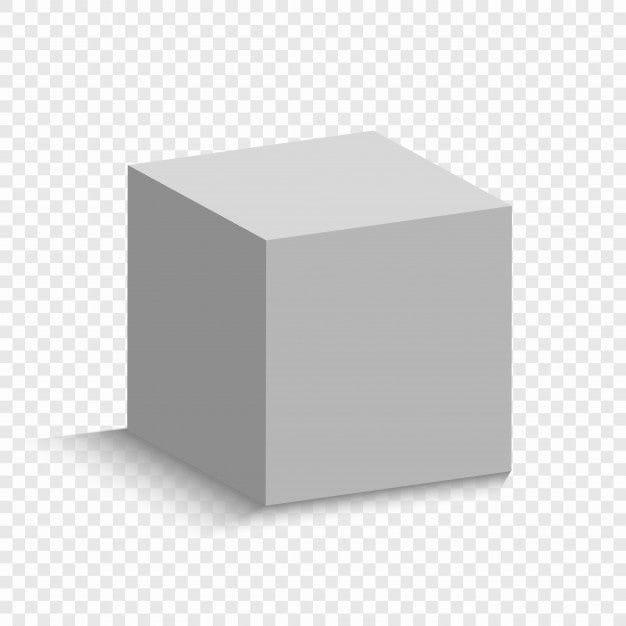cubos: (104, 116, 541, 530)
